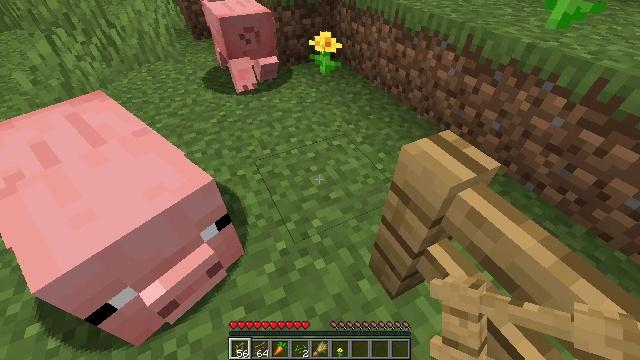pig: (0, 92, 244, 346), (200, 0, 282, 93)
